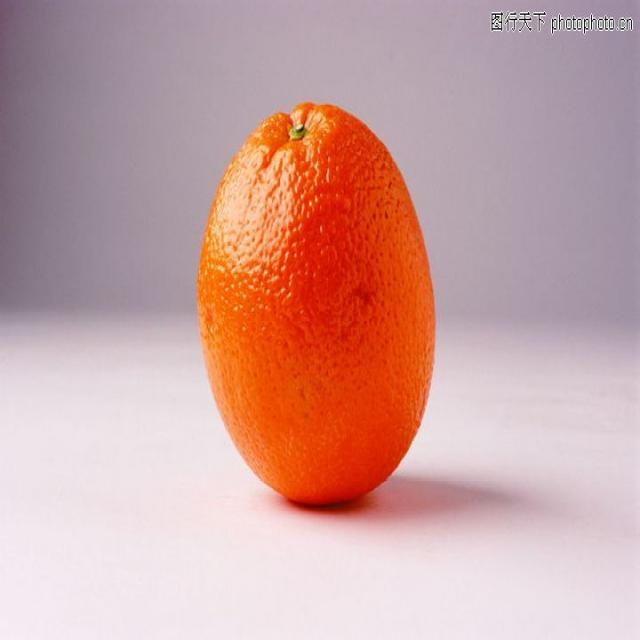Orange: (194, 102, 437, 504)
